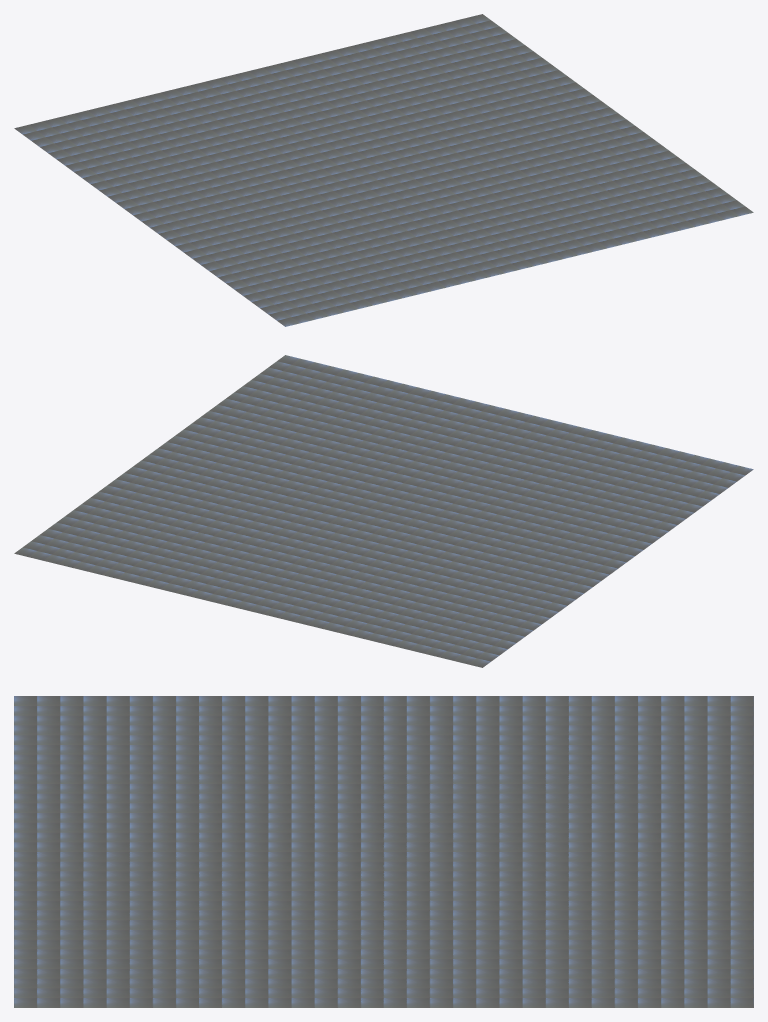
Rendered from 바닥_edit.glb.
The picture shows the model from 3 angles, top to bottom: view 1: azimuth 30°, elevation 25°; view 2: azimuth 150°, elevation 25°; view 3: azimuth 270°, elevation 25°; orthographic projection. The views are drawn at different scales.
Parts seen in each view (by area): view 1: Plane.599; view 2: Plane.599; view 3: Plane.599.
Boxes of the visible parts, box(x1,y1,x2,y2) form: Plane.599: box(14, 14, 753, 326); Plane.599: box(14, 355, 753, 667); Plane.599: box(14, 696, 753, 1007).
Size of the model in its own units: 63.36 by 0 by 63.55.
Materials: 1024 (1024 with a texture image).
